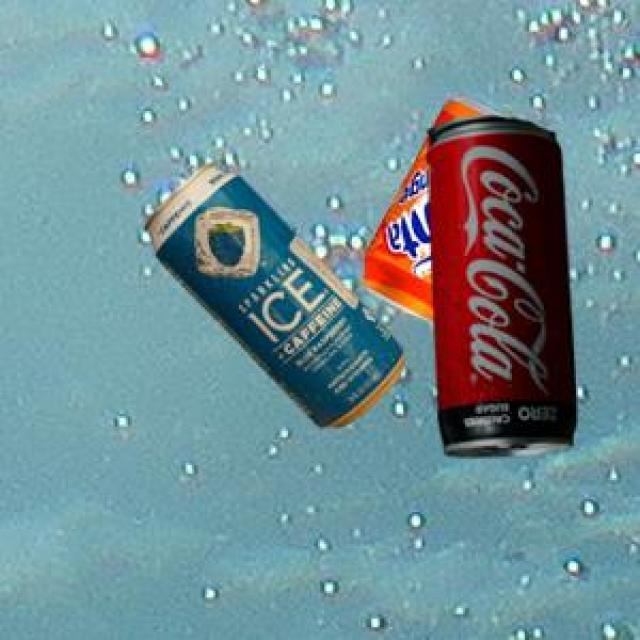Can: (142, 161, 400, 423), (423, 112, 573, 453), (359, 91, 478, 321)
